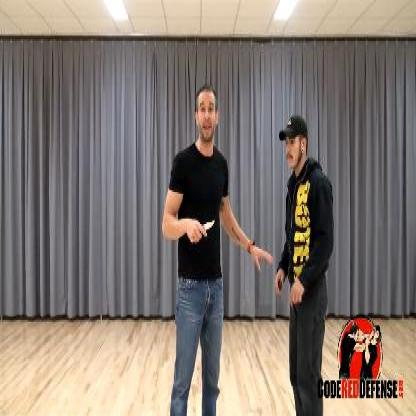knife: (189, 217, 215, 242)
